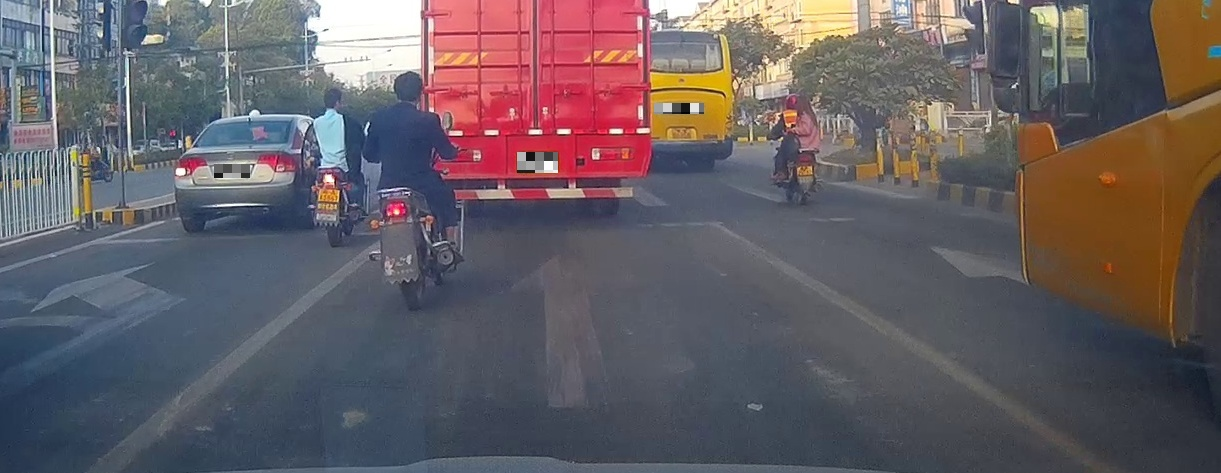L_light: (174, 156, 208, 177)
R_light: (257, 152, 299, 173)
T_light: (239, 121, 259, 128)
day-left: (173, 116, 299, 235)
plate_1: (214, 164, 250, 178)
plate_2: (517, 152, 558, 173)
plate_3: (654, 103, 704, 114)
